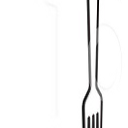Fork: (72, 1, 117, 128)
